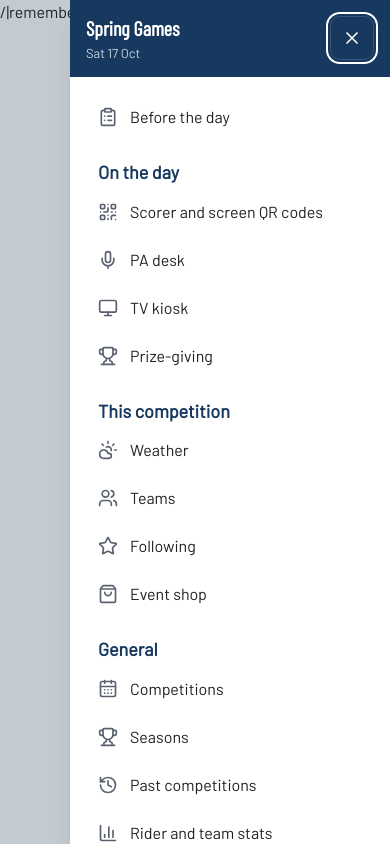
Test: NavigationDrawer: On the day › gives the organiser the PA desk, TV kiosk and QR codes, first in the menu
Check: the heading "On the day" is shown, box [98,161,179,183]
Click the link "TV kiosk".
click(143, 308)  # box [98,298,188,318]
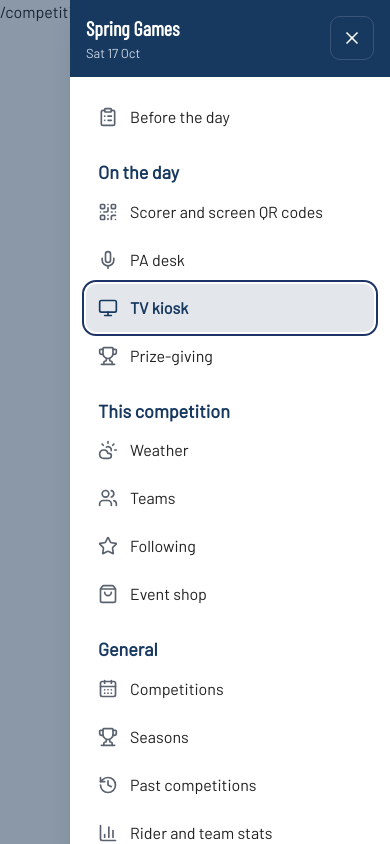
Check: the text with test id "probe" shows "/competitions/4/tv", box [0,2,132,21]
